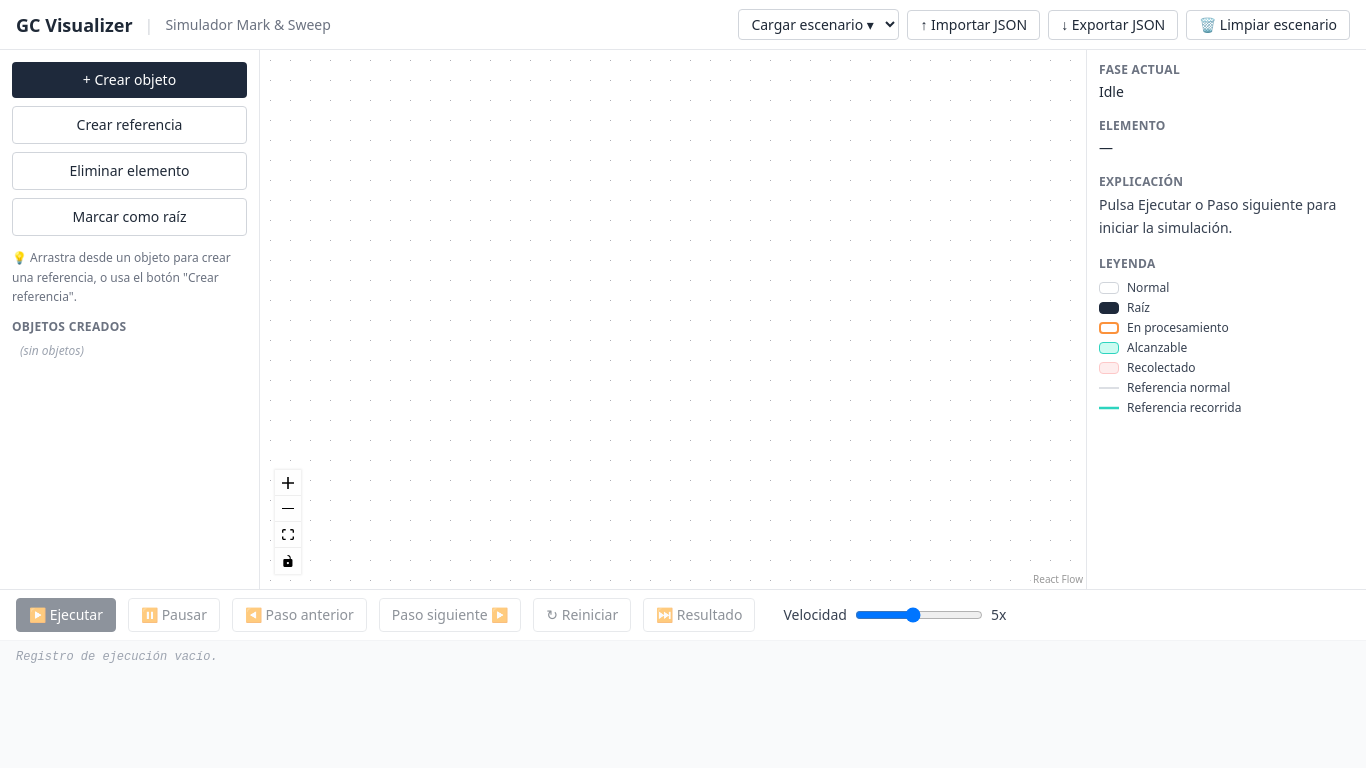
Test case: Fase 9.4 — verificación de los 5 escenarios predefinidos › Sin raíces — diálogo de confirmación y todos recolectados al continuar
Expected: the element with test id "graph-canvas" is shown, [260, 50, 1086, 589]
Select "Sin raíces" in the dropdown with test id "btn-cargar-escenario": (819,25) [738, 9, 899, 40]
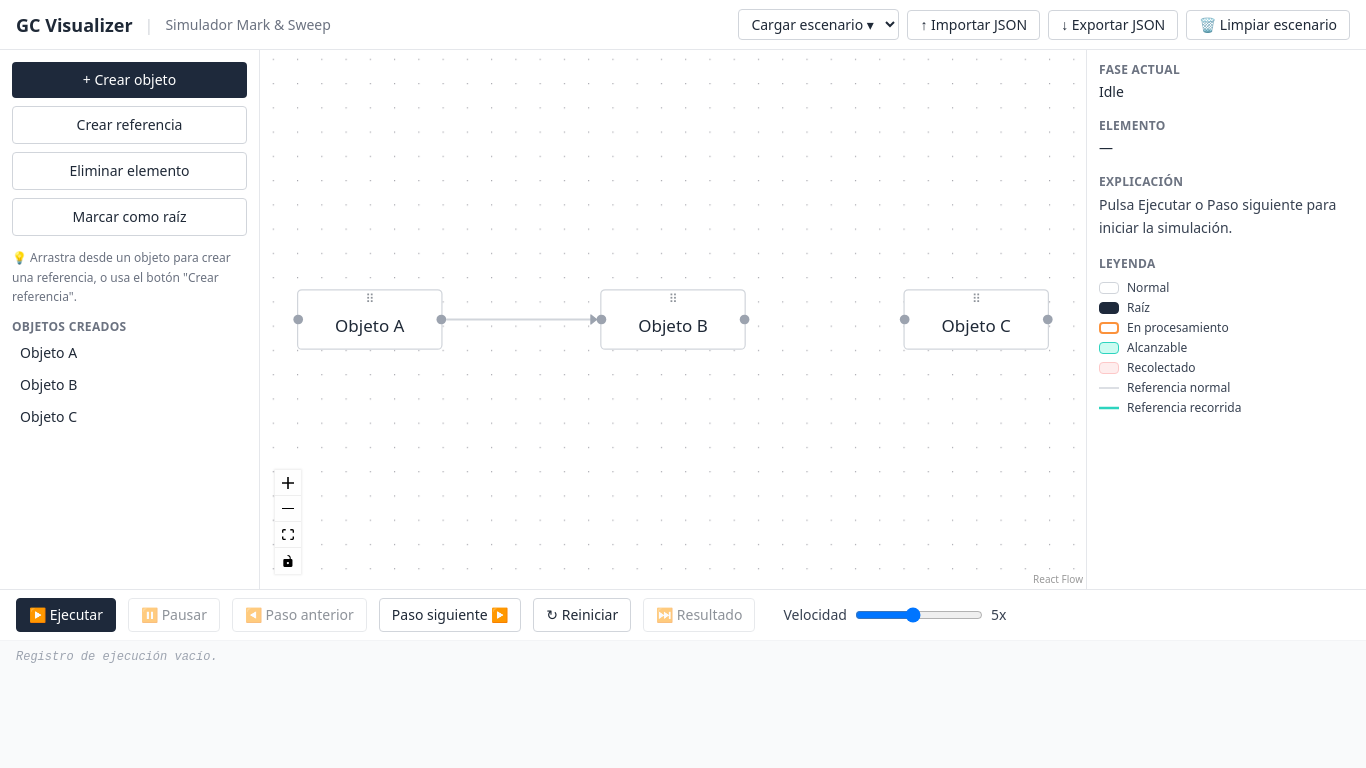
Click the button with test id "btn-ejecutar": (66,615) [16, 598, 116, 632]
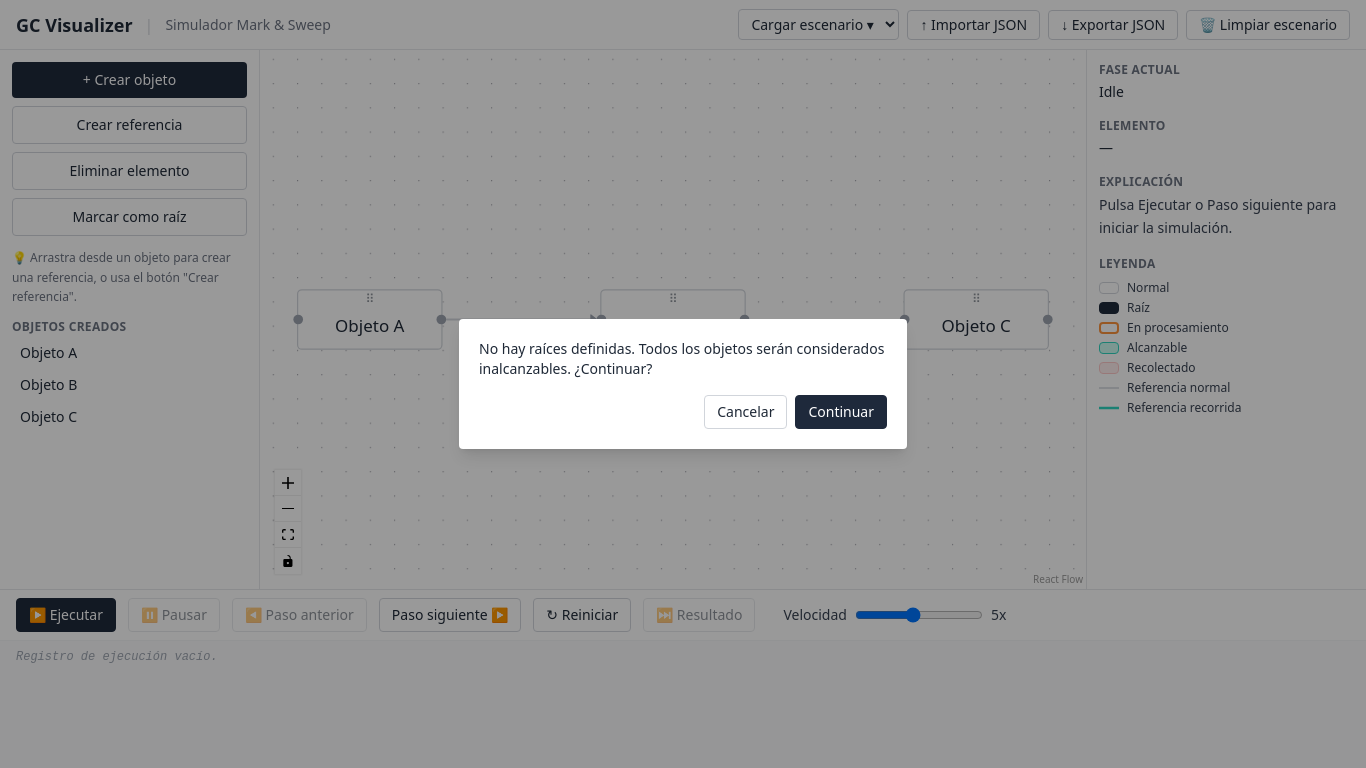
Expected: the text "No hay raíces definidas. Todos los objetos serán considerados inalcanzables." is shown, [479, 339, 884, 378]
Click the button "Continuar": (841,412) [795, 395, 887, 429]
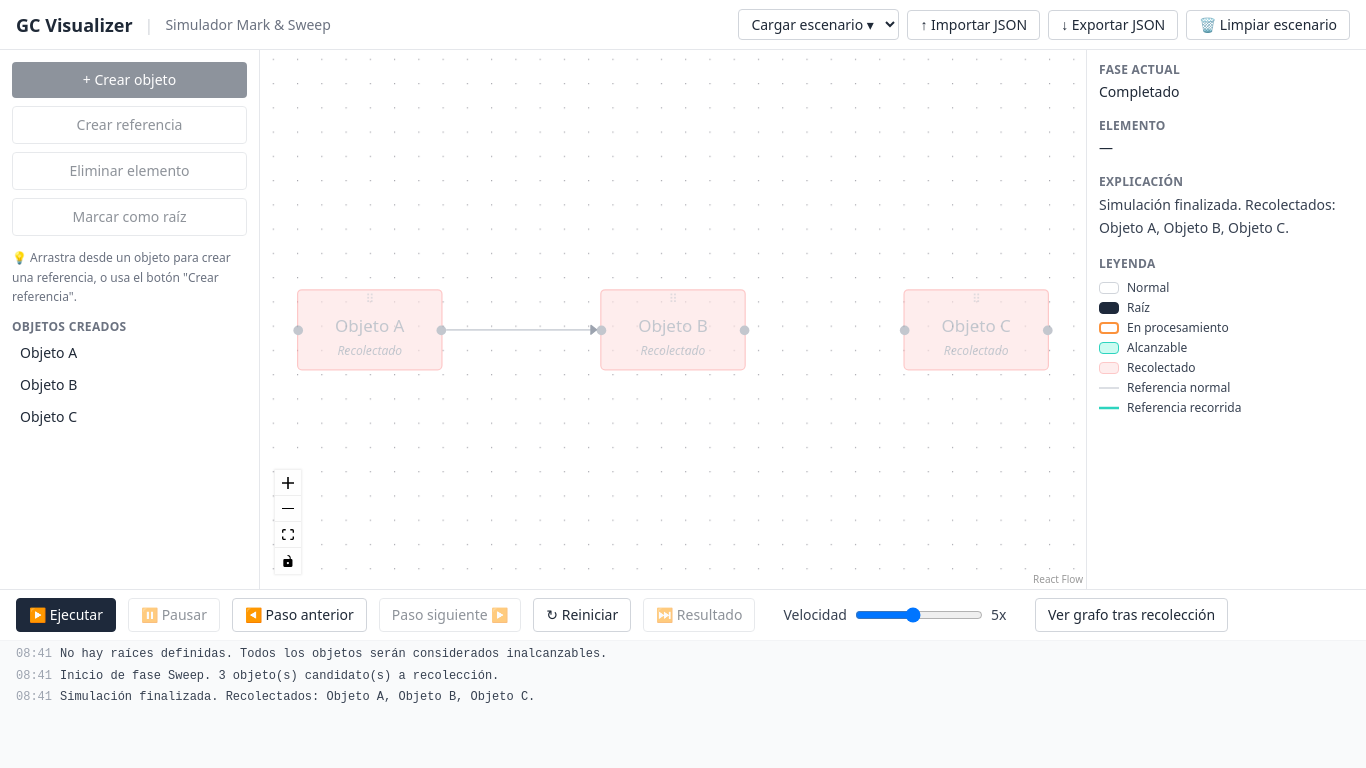
Expected: the text with test id "info-fase-actual" reads "Completado", [1099, 82, 1180, 101]
